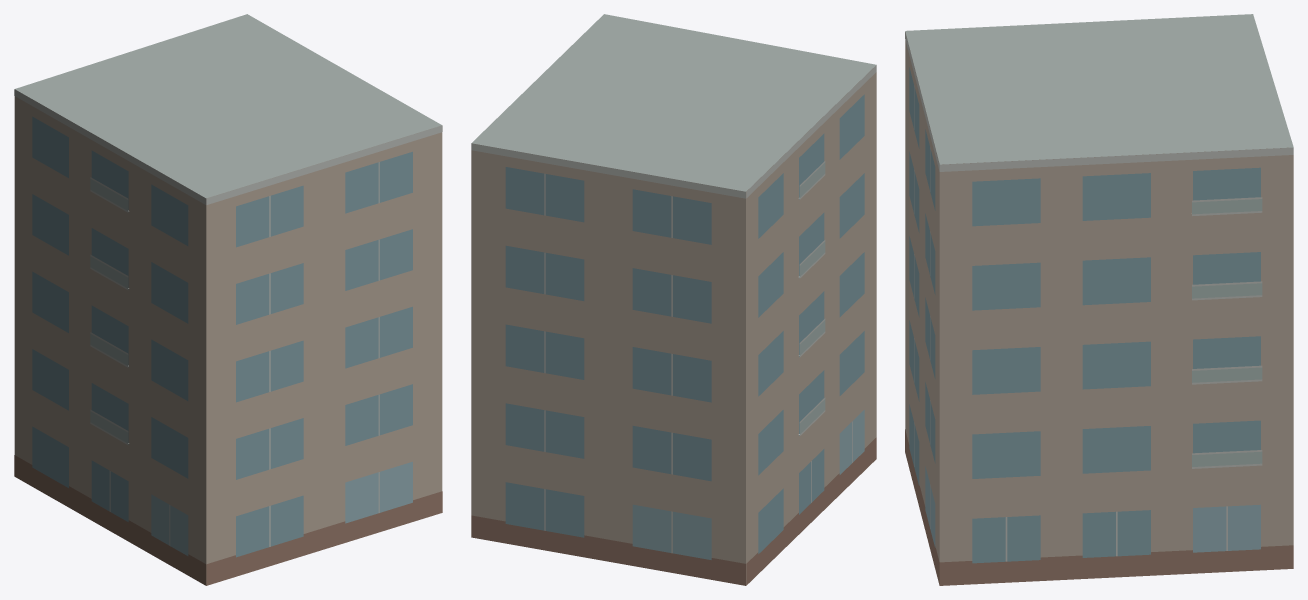
The model's file is survey-upis-32967407.glb.
The picture shows the model from 3 angles, left to right: view 1: azimuth 30°, elevation 25°; view 2: azimuth 150°, elevation 25°; view 3: azimuth 270°, elevation 25°; orthographic projection. The views are drawn at different scales.
Visible parts, largest first — view 1: survey-upis-32967407.tmp; view 2: survey-upis-32967407.tmp; view 3: survey-upis-32967407.tmp.
Part boxes in pixels (<box>): survey-upis-32967407.tmp: <box>14,14,442,585</box>; survey-upis-32967407.tmp: <box>471,14,876,585</box>; survey-upis-32967407.tmp: <box>905,14,1293,585</box>.
Bounding box in the file's own units: 10.57 × 13.78 × 11.53.
